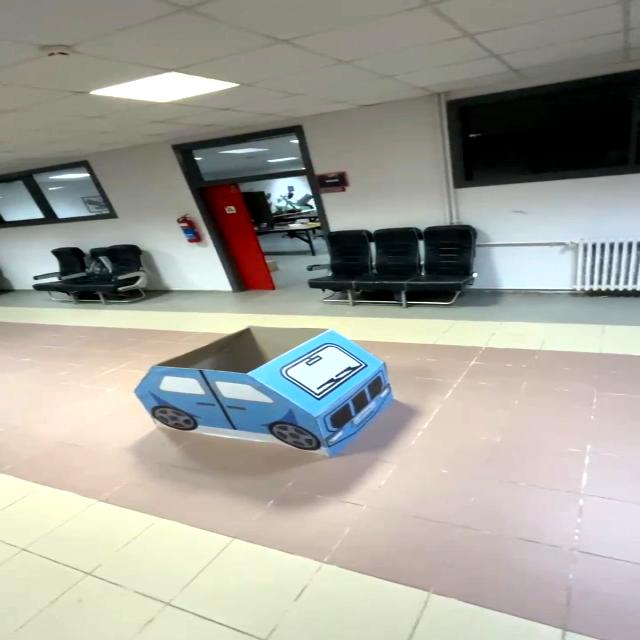blue_car: (126, 312, 400, 474)
